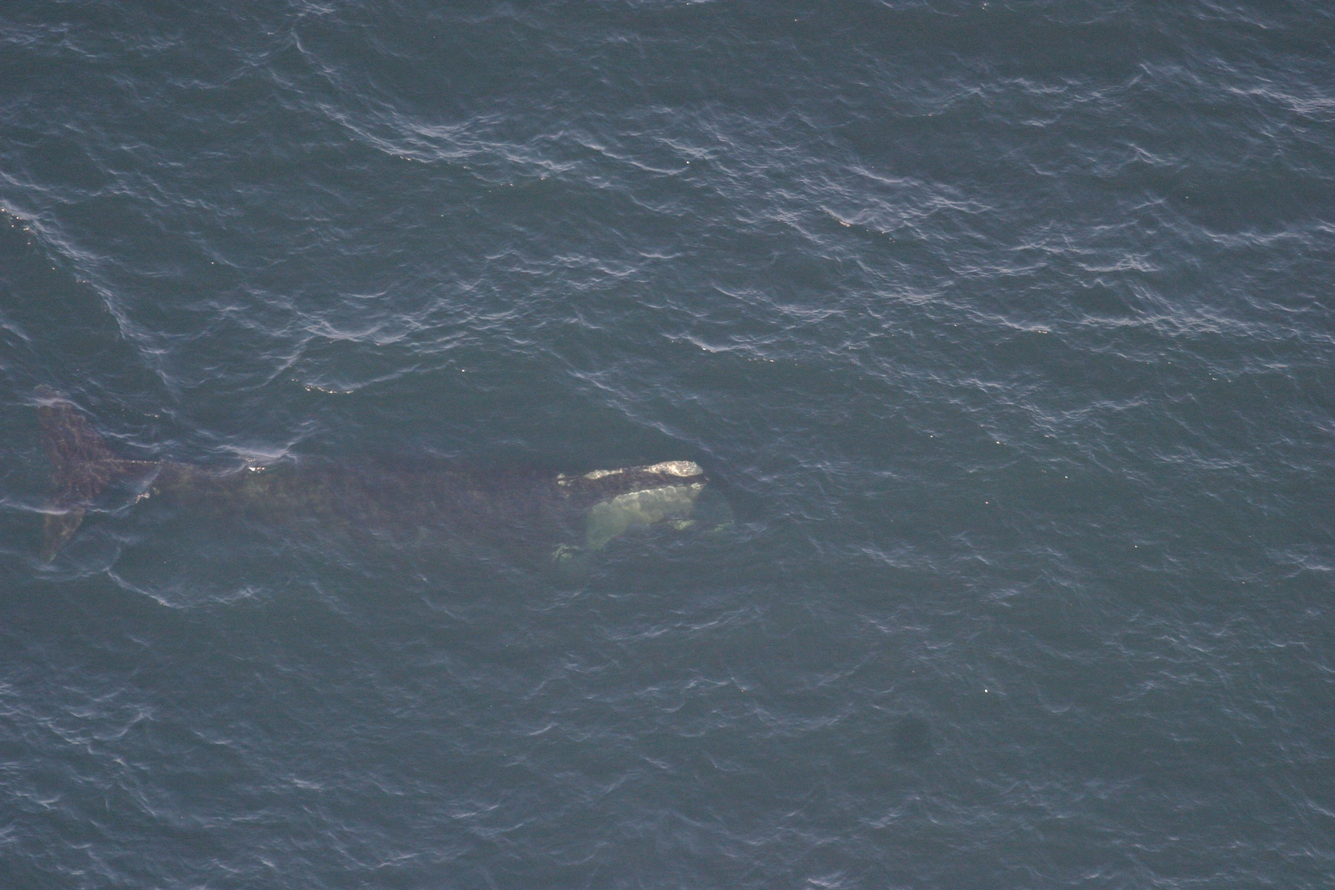whale: (7, 359, 740, 618)
